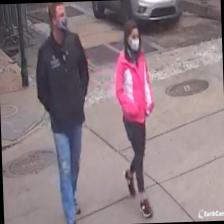person: (33, 1, 93, 224), (112, 17, 157, 217)
